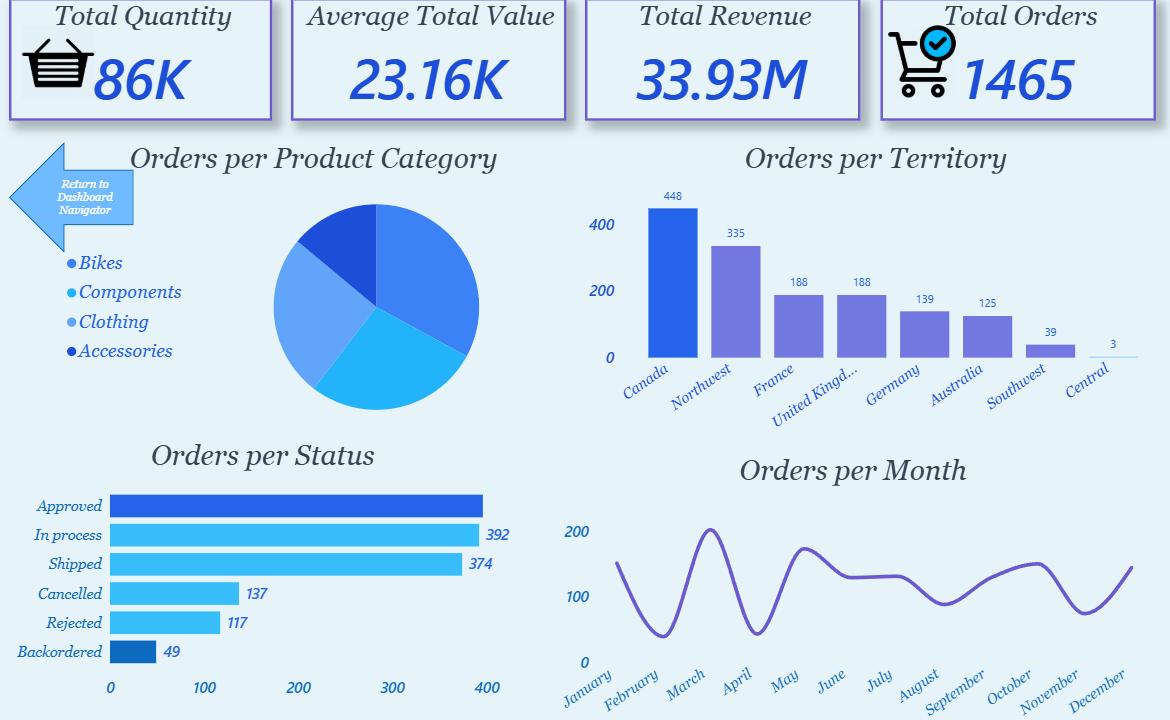

The dashboard page shown, as its layout file describes it:
{"tool":"powerbi","page":{"name":"Orders Overview","canvas":[1280,823],"ordinal":1},"visuals":[{"type":"card","title":"Total Orders ","fields":{"Values":["Count(Sales.OrderID)"]},"box":[963.8,13.2,300.5,134.2],"z":0},{"type":"card","title":"Total Revenue","fields":{"Values":["Sum(Sales.TotalDue)"]},"box":[641.3,13.2,300.5,134.2],"z":1000},{"type":"card","title":"Average Total Value","fields":{"Values":["My_Measures.Average Order Value"]},"box":[320.6,13.2,300.5,134.2],"z":2000},{"type":"card","title":"Total Quantity","fields":{"Values":["Sum(Sales.OrderQty)"]},"box":[13.2,13.2,287.2,134.2],"z":3000},{"type":"lineChart","title":" Orders per Month","fields":{"Category":["Dim Order Date.OrderDate.Variation.Date Hierarchy.Month"],"Y":["Count(Sales.OrderID)"]},"box":[606.6,510.2,657.6,313.7],"z":4000},{"type":"clusteredBarChart","title":" Orders per Status","fields":{"Y":["Count(Sales.OrderID)"],"Category":["Dim Status.Status"]},"box":[0,495.1,580.2,292.9],"z":5000},{"type":"columnChart","title":" Orders per Territory","fields":{"Y":["Count(Sales.OrderID)"],"Category":["Dim Territory.Territory"]},"box":[640.6,170.1,638.7,325],"z":6000},{"type":"pieChart","title":"Orders per Product Category","fields":{"Y":["Count(Sales.OrderID)"],"Category":["Dim Product.ProductCategory"]},"box":[68,170.1,553.7,325],"z":7000},{"type":"image","box":[963.8,37.8,90.7,88.8],"z":8000},{"type":"image","box":[13.2,37.8,107.7,92.6],"z":9000},{"type":"shape","box":[13.2,170.1,136.1,120.9],"z":10000}]}

Visuals, with their boxes on the page's 1280x823 design canvas (x1, y1, x2, y2). These are canvas units, not pixel positions in the 1170x720 screenshot, which may show the page scaled, cropped or inside an application window:
"Total Orders " card: 964, 13, 1264, 147
"Total Revenue" card: 641, 13, 942, 147
"Average Total Value" card: 321, 13, 621, 147
"Total Quantity" card: 13, 13, 300, 147
" Orders per Month" lineChart: 607, 510, 1264, 824
" Orders per Status" clusteredBarChart: 0, 495, 580, 788
" Orders per Territory" columnChart: 641, 170, 1279, 495
"Orders per Product Category" pieChart: 68, 170, 622, 495
image: 964, 38, 1054, 127
image: 13, 38, 121, 130
shape: 13, 170, 149, 291
